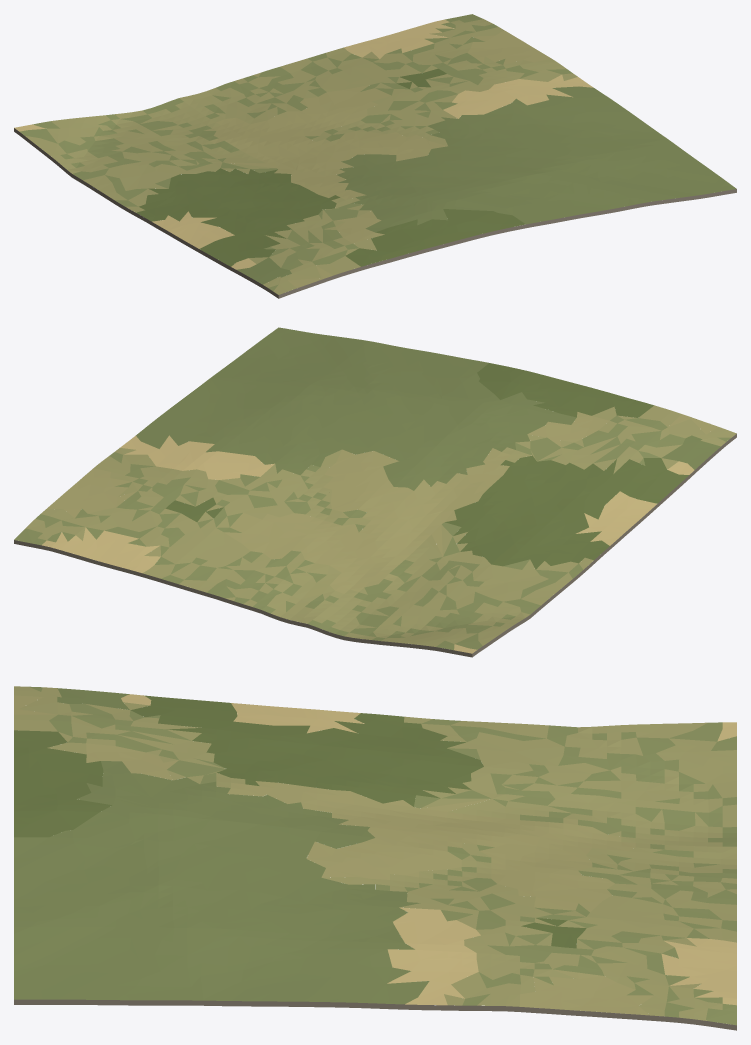
Rendered from parca_+3_-1-uzak.glb.
3 views of the same model, one above another, from view 1: azimuth 30°, elevation 25°; view 2: azimuth 150°, elevation 25°; view 3: azimuth 270°, elevation 25° (orthographic). The views are drawn at different scales.
Parts seen in each view (by area): view 1: parca_+3_-1_arazi_uzak; view 2: parca_+3_-1_arazi_uzak; view 3: parca_+3_-1_arazi_uzak.
Boxes of the visible parts, <box> form: parca_+3_-1_arazi_uzak: <box>14,14,736,298</box>; parca_+3_-1_arazi_uzak: <box>14,327,736,657</box>; parca_+3_-1_arazi_uzak: <box>14,686,736,1030</box>.
Size of the model in its own units: 1000 by 117 by 1000.
